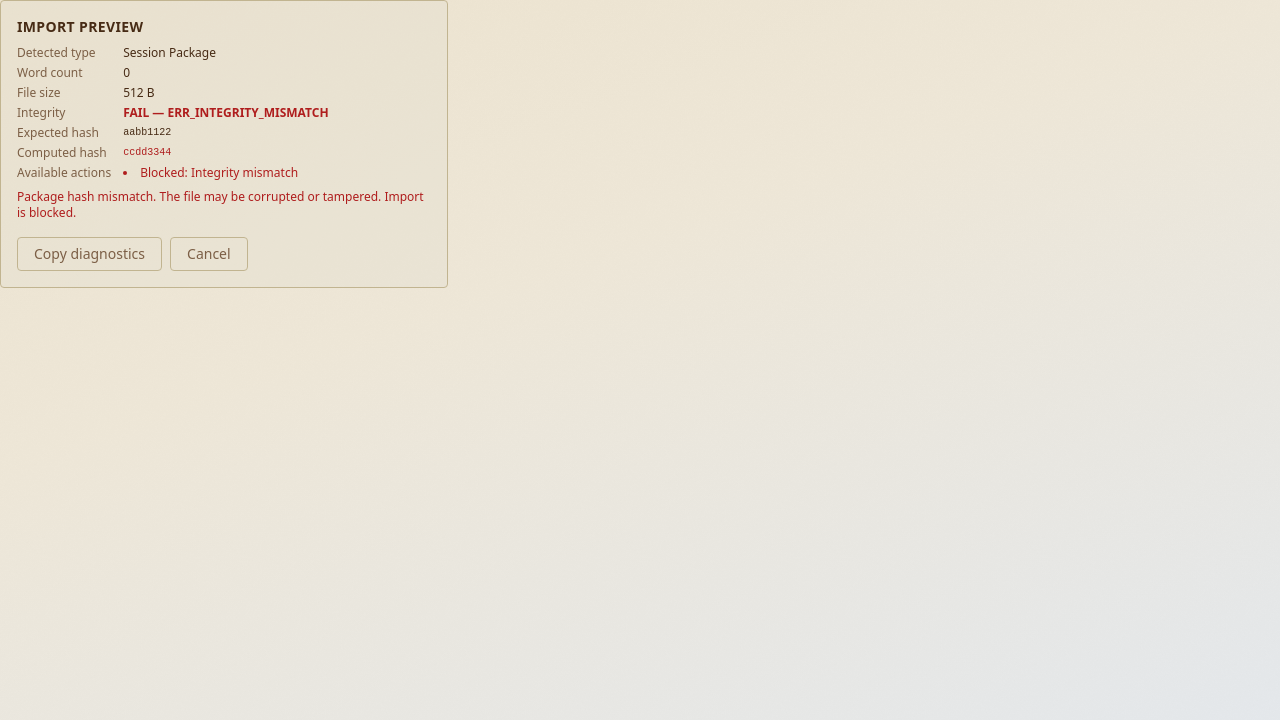
Test: 0256 — Copy diagnostics UX › clipboard failure → fallback textarea appears with JSON payload
The image size is (1280, 720).
What coordinates should you click on to do the following:
click the button "Copy diagnostics"
I would click on:
 (90, 254)
Its box is top-left (17, 237), bottom-right (162, 271).
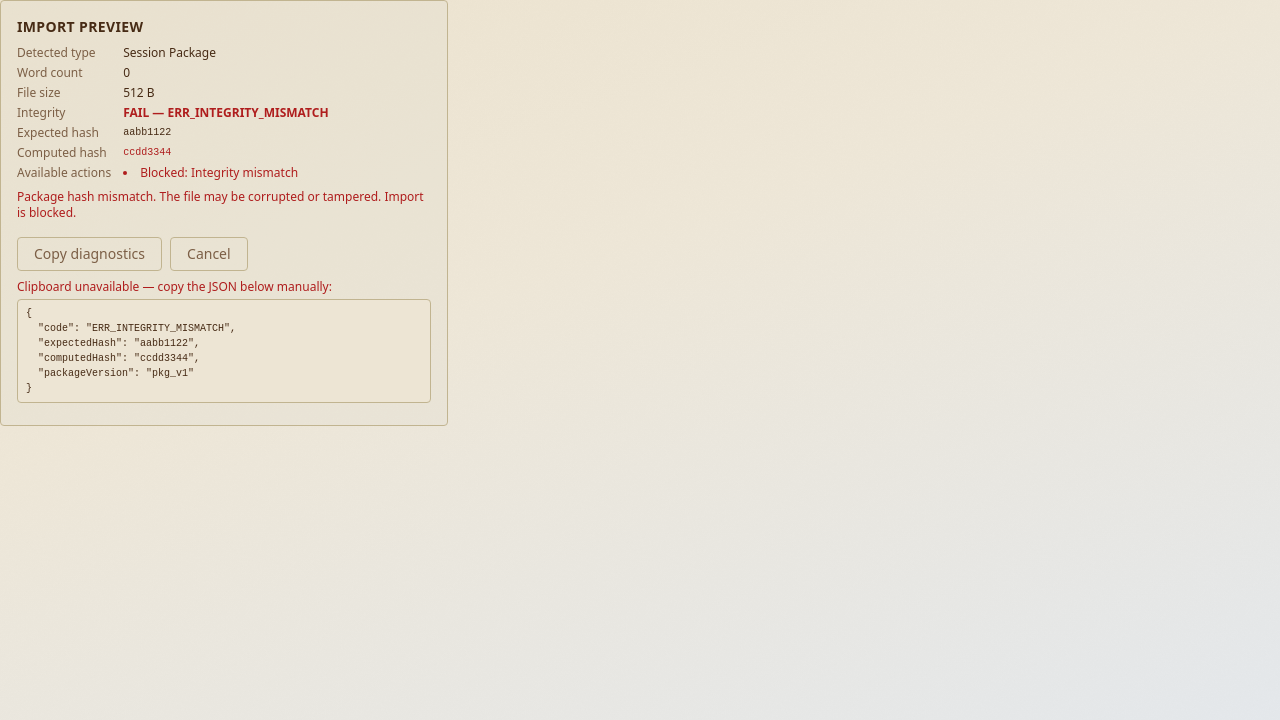
Expected: the text "Clipboard unavailable — copy the JSON below manually:" is shown, top-left (17, 278), bottom-right (332, 295)
